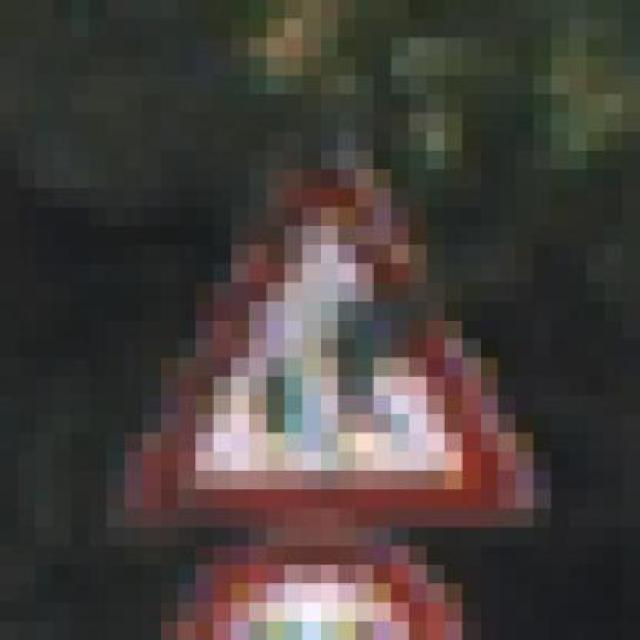Beware of children: (117, 109, 545, 562)
